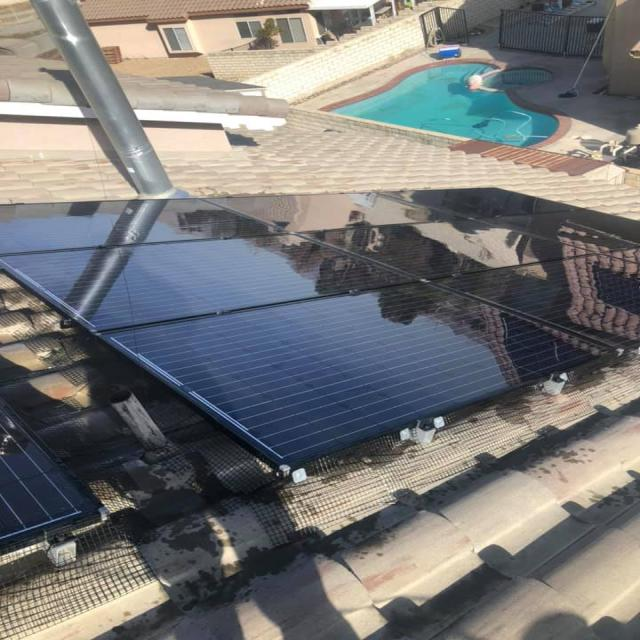clean-solar-panel: (2, 189, 638, 466)
